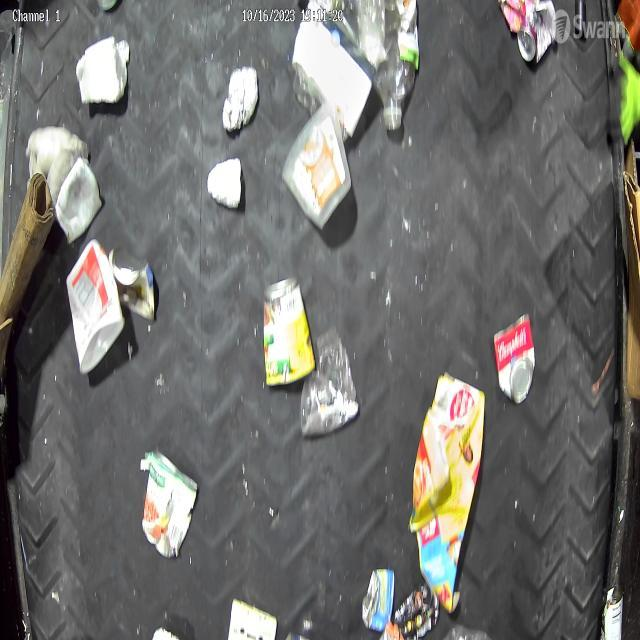can: (141, 443, 199, 562), (262, 275, 317, 390), (106, 242, 158, 326), (492, 312, 537, 405), (516, 0, 556, 66), (360, 564, 396, 635), (597, 585, 624, 640)
plastic_bottle: (368, 0, 422, 135)
